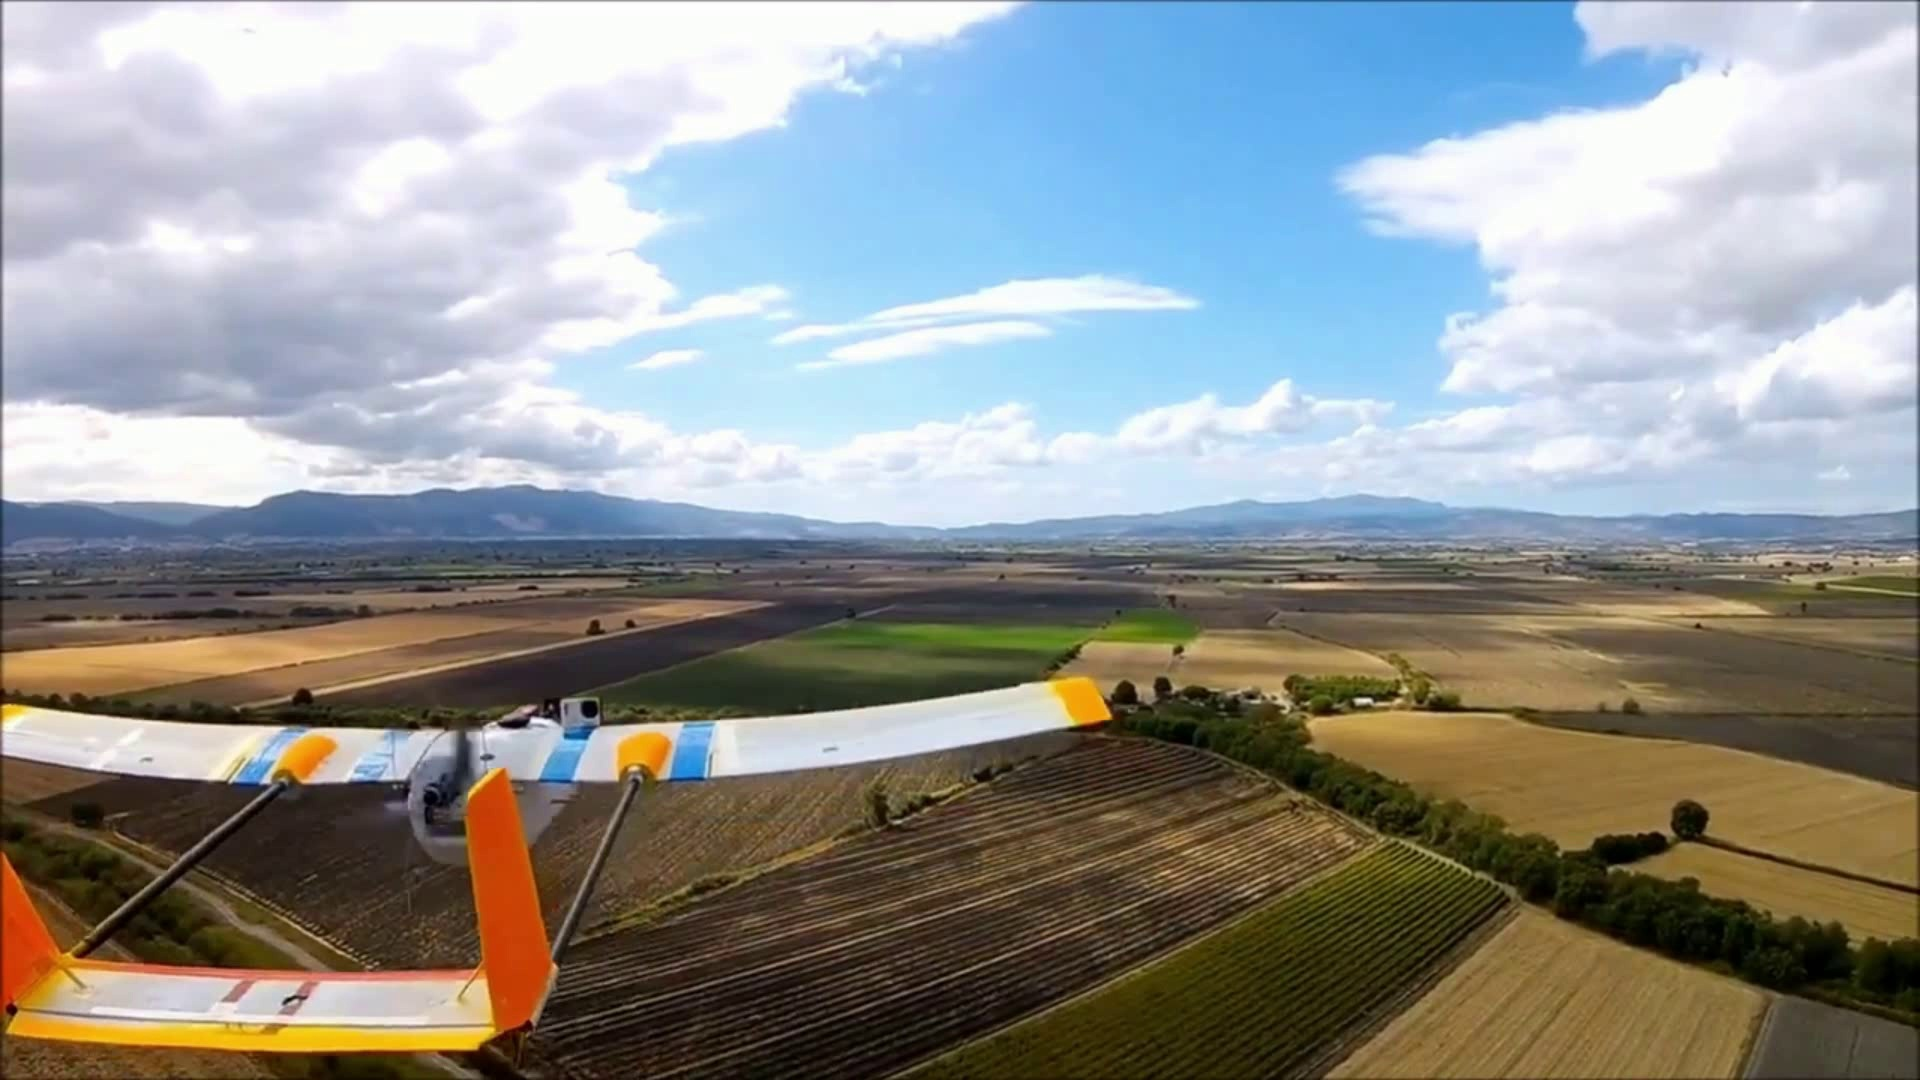airplane: (3, 650, 1124, 1063)
